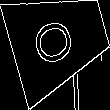O_E: (33, 12, 85, 69)
